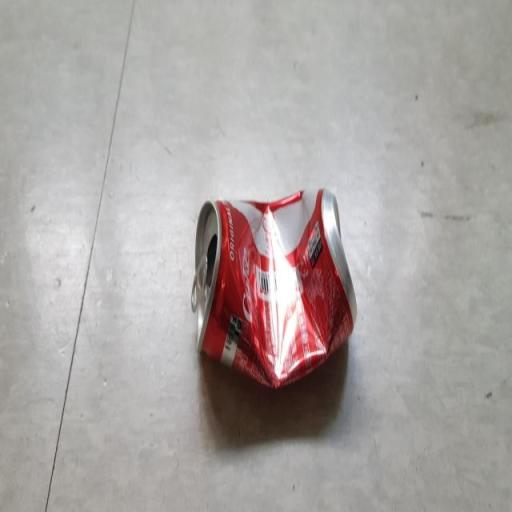metal: (172, 170, 392, 428)
